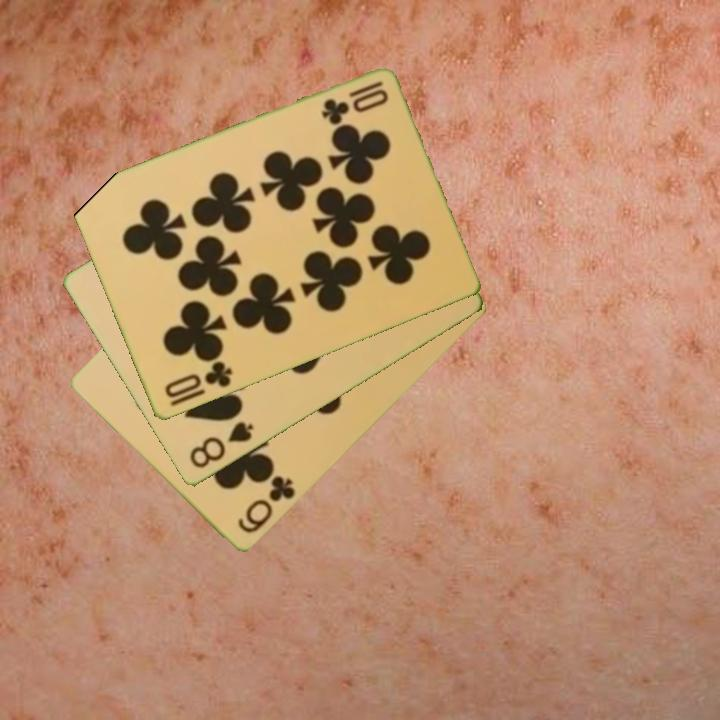10c: (317, 78, 386, 127), (160, 358, 235, 402)
6c: (233, 472, 299, 537)
8s: (185, 418, 257, 472)
